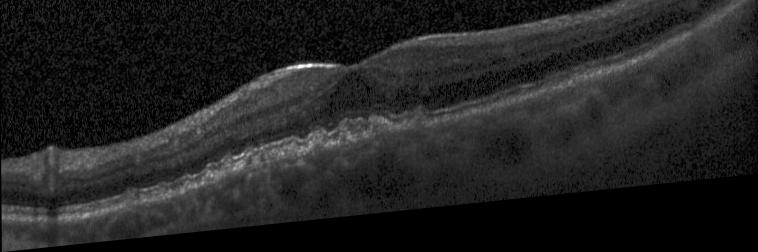retinal_drusen: (370, 132, 386, 145), (308, 144, 322, 158), (411, 124, 426, 135), (205, 175, 218, 187), (339, 138, 352, 150), (126, 196, 138, 208), (284, 152, 298, 162), (223, 166, 232, 176), (183, 186, 191, 197), (158, 193, 167, 202), (245, 161, 253, 171), (259, 160, 266, 168)
